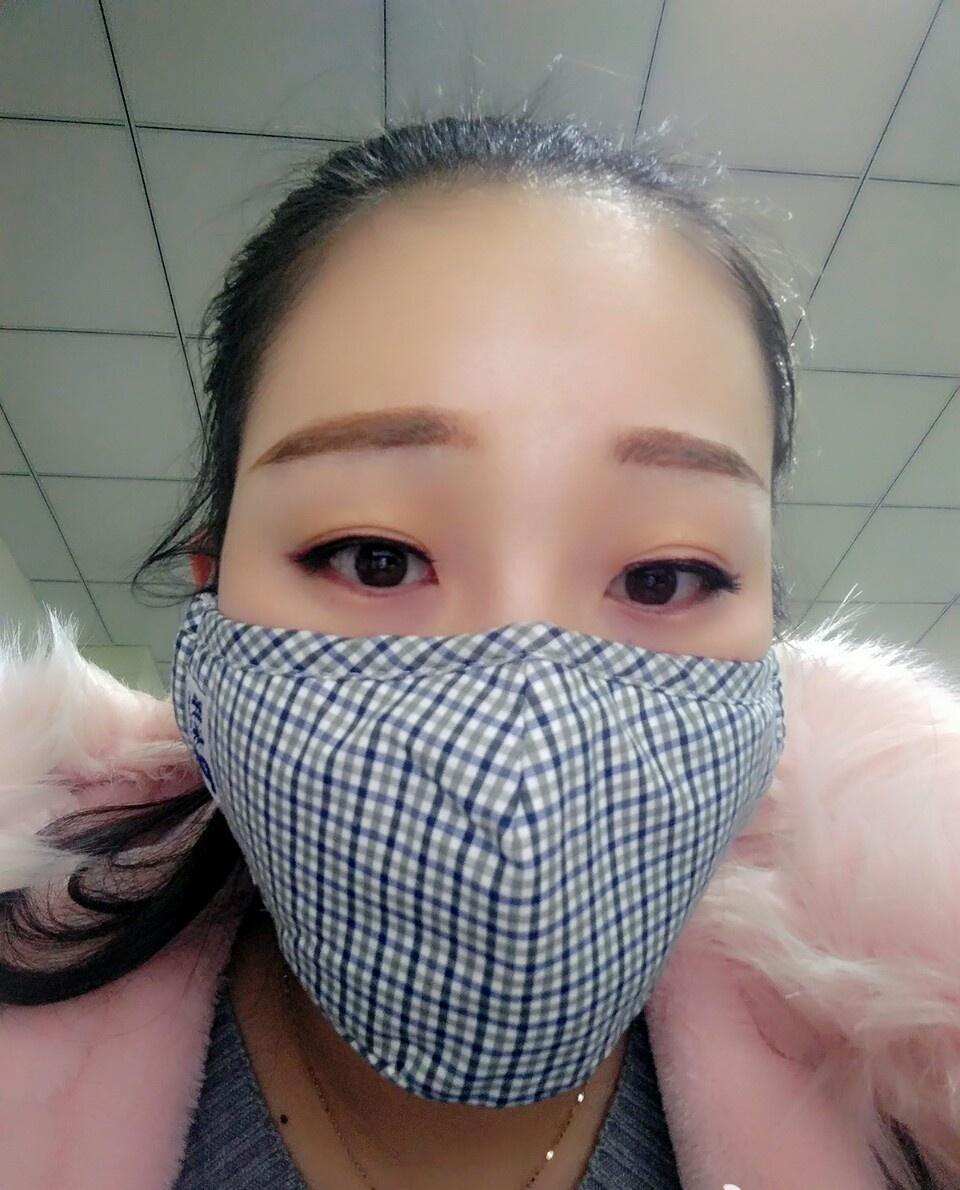OK: (187, 405, 783, 1091)
